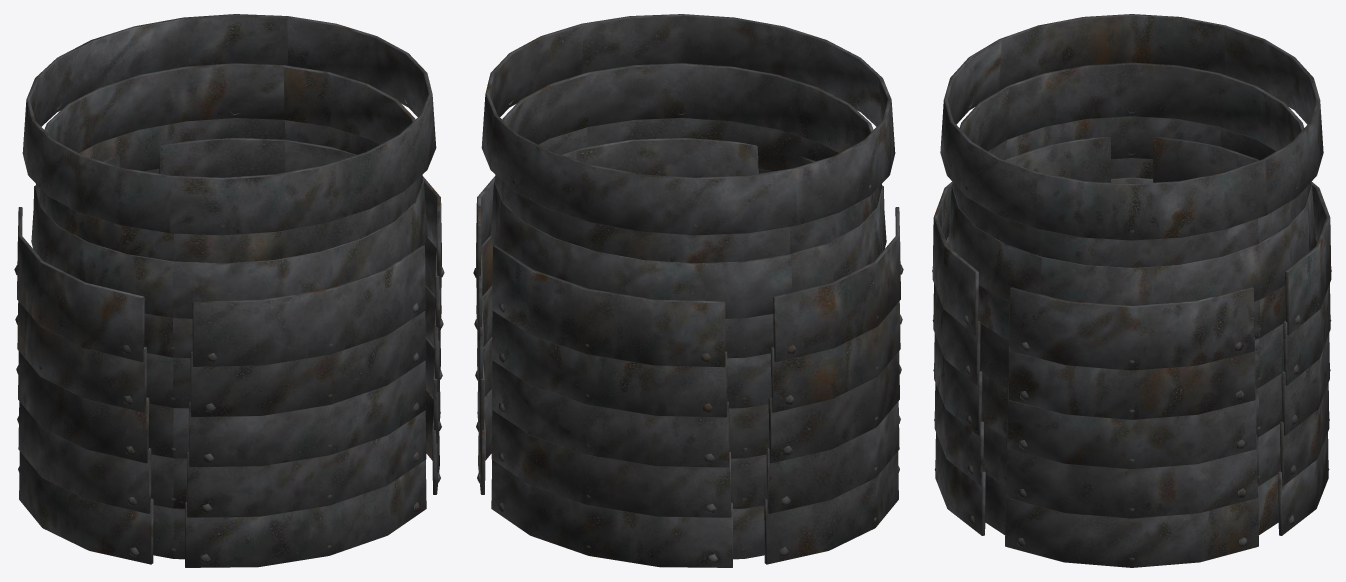
Rendered from fauld-proc-v3.glb.
3 views of the same model, side by side, from view 1: azimuth 30°, elevation 25°; view 2: azimuth 150°, elevation 25°; view 3: azimuth 270°, elevation 25° (orthographic).
Visible parts, largest first — view 1: fauld; view 2: fauld; view 3: fauld.
Part boxes in pixels (bbox=[...]): fauld: bbox=[14, 14, 444, 567]; fauld: bbox=[473, 14, 903, 567]; fauld: bbox=[932, 14, 1331, 567].
Bounding box in the file's own units: 0.4331 × 0.4202 × 0.4017.
Materials: 1 (1 with a texture image).
